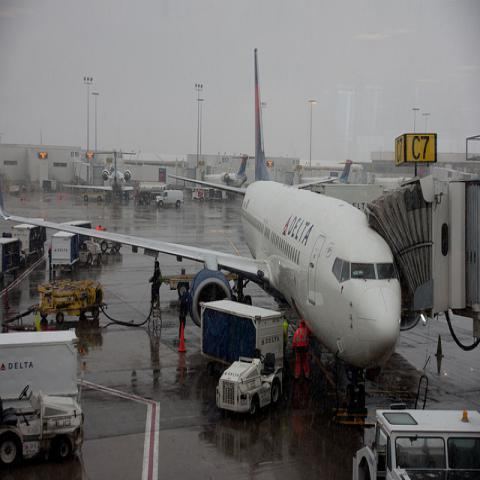truck: (199, 298, 284, 417), (351, 397, 479, 475), (11, 222, 47, 270), (139, 184, 172, 204), (78, 241, 102, 266), (155, 190, 184, 207), (10, 185, 20, 196)
